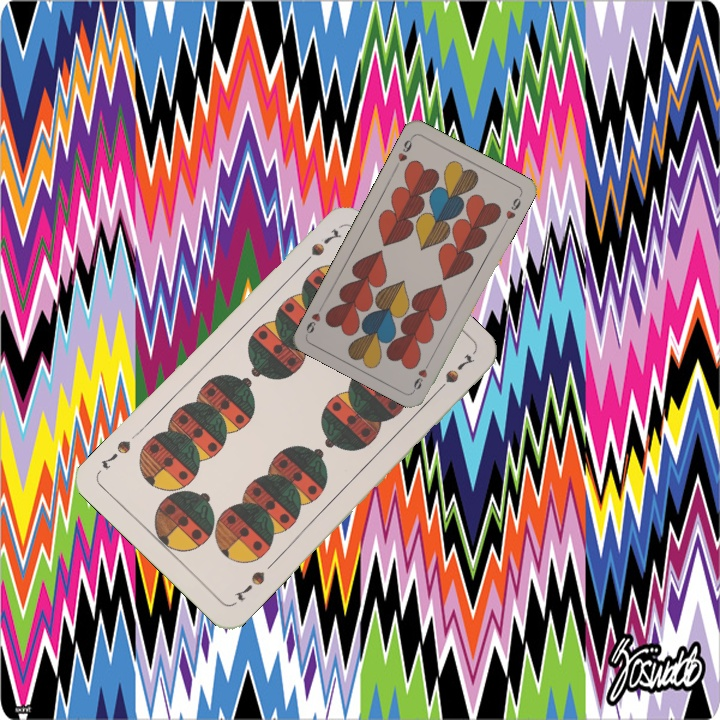H9: (391, 133, 416, 170), (409, 356, 434, 393)
S7: (297, 224, 344, 269), (229, 567, 268, 603)
